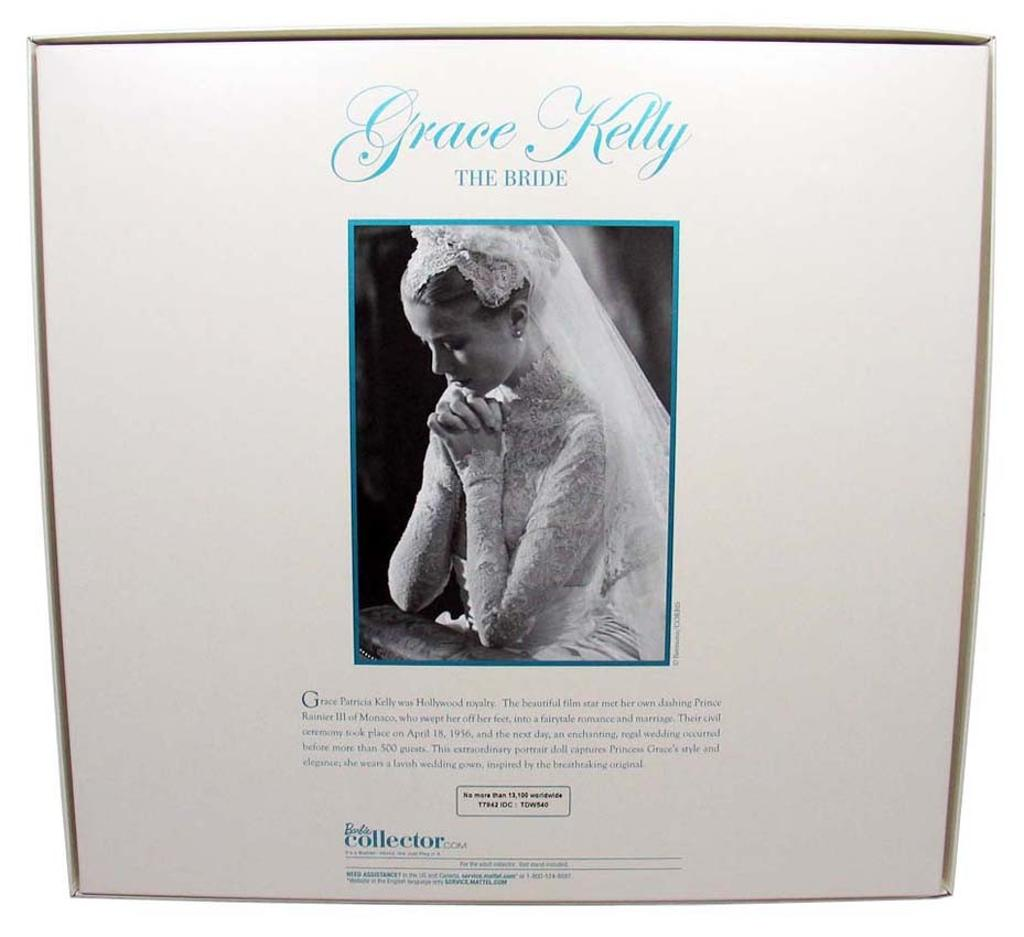face: (404, 296, 510, 392)
